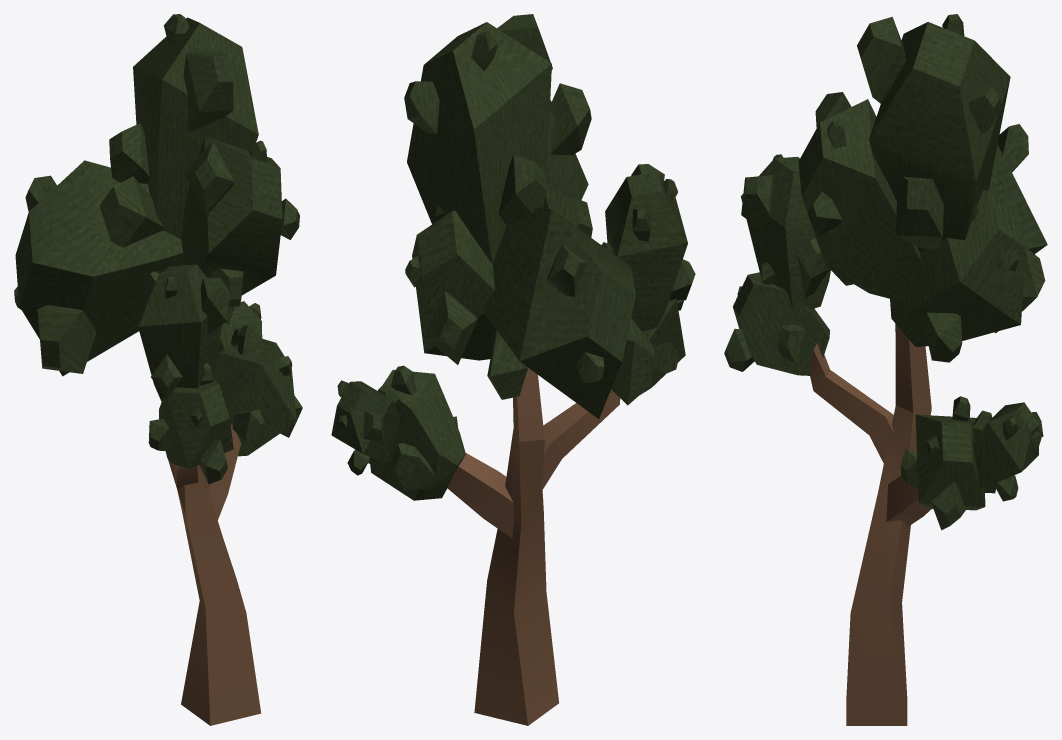
The model's file is arbol_columpio.obj.
The picture shows the model from 3 angles, left to right: view 1: azimuth 30°, elevation 25°; view 2: azimuth 150°, elevation 25°; view 3: azimuth 270°, elevation 25°; orthographic projection. The views are drawn at different scales.
Visible parts, largest first — view 1: Tree; view 2: Tree; view 3: Tree.
Part boxes in pixels (left/top/right/bottom): Tree: left=14, top=14, right=302, bottom=725; Tree: left=331, top=14, right=695, bottom=725; Tree: left=724, top=14, right=1047, bottom=725.
Bounding box in the file's own units: 10.59 × 25.09 × 10.6.
